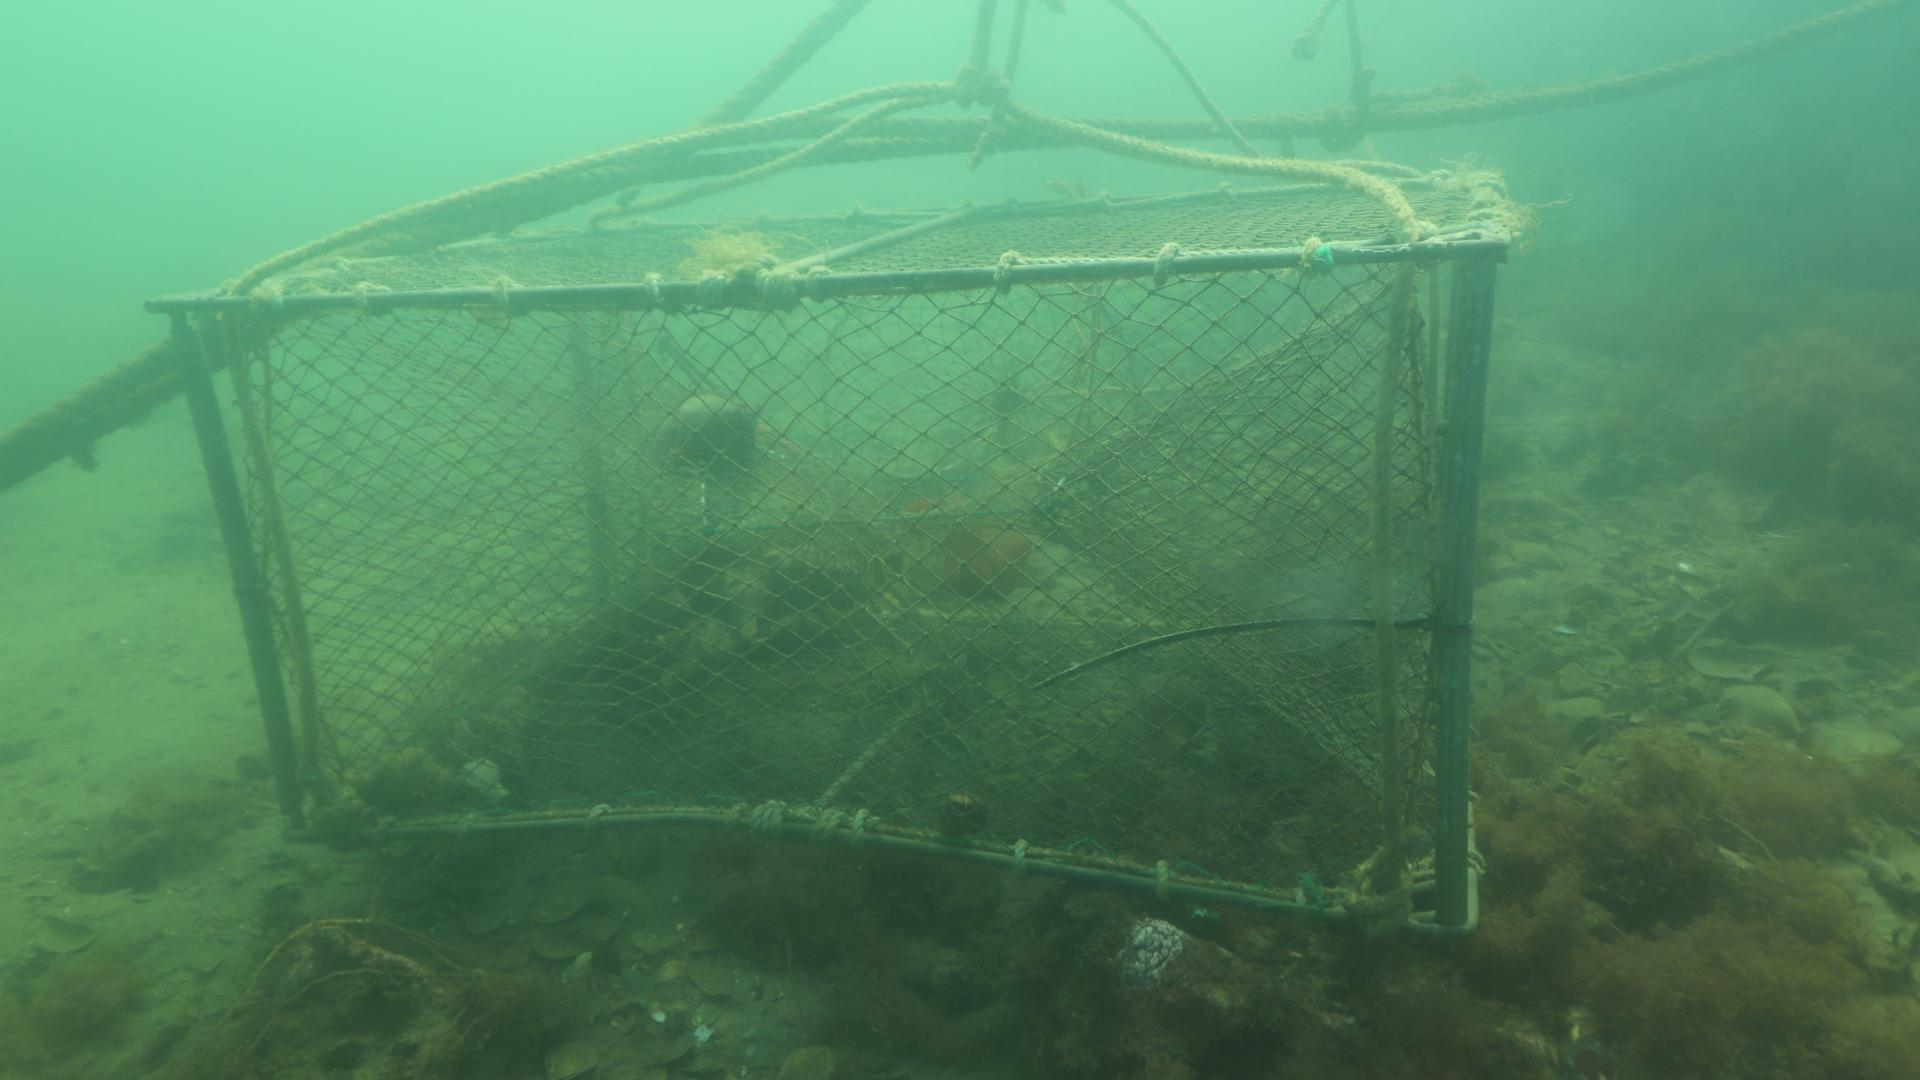bundle of ropes: (225, 0, 1920, 284)
rectangular fish trap: (142, 165, 1510, 935)
